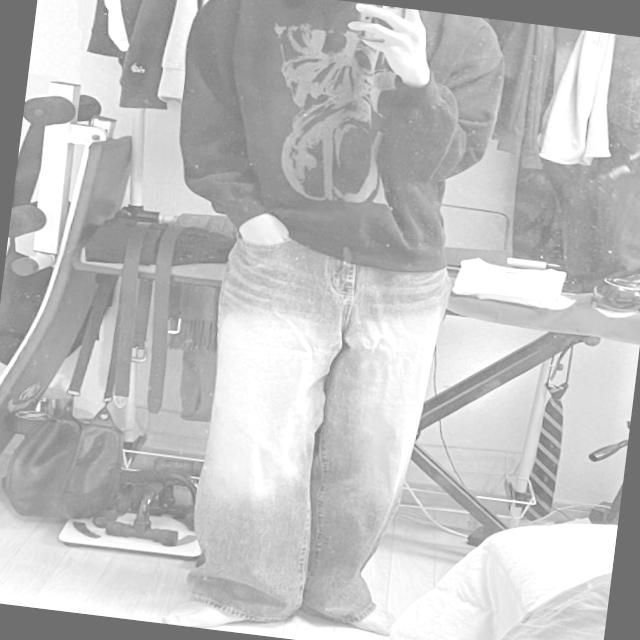denimpants: (184, 231, 456, 640)
mtm: (160, 0, 509, 276)
